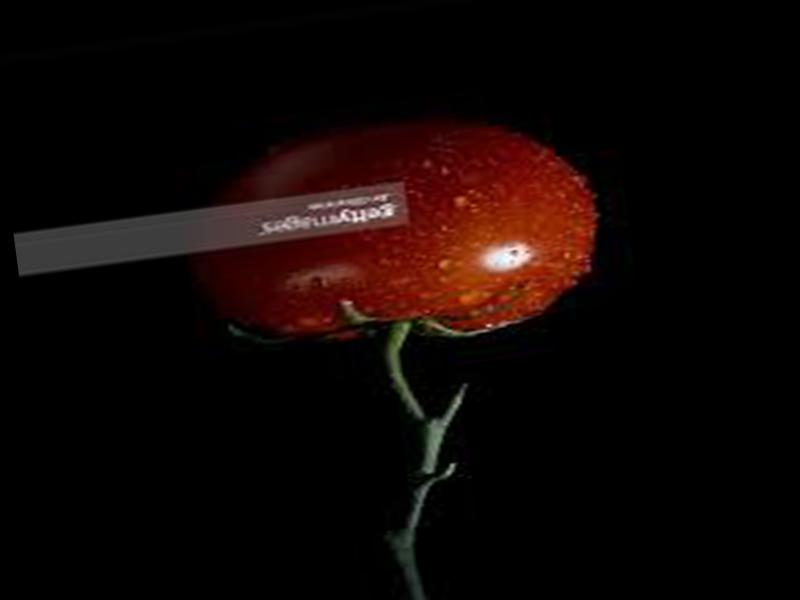Tomato: (193, 104, 607, 362)
